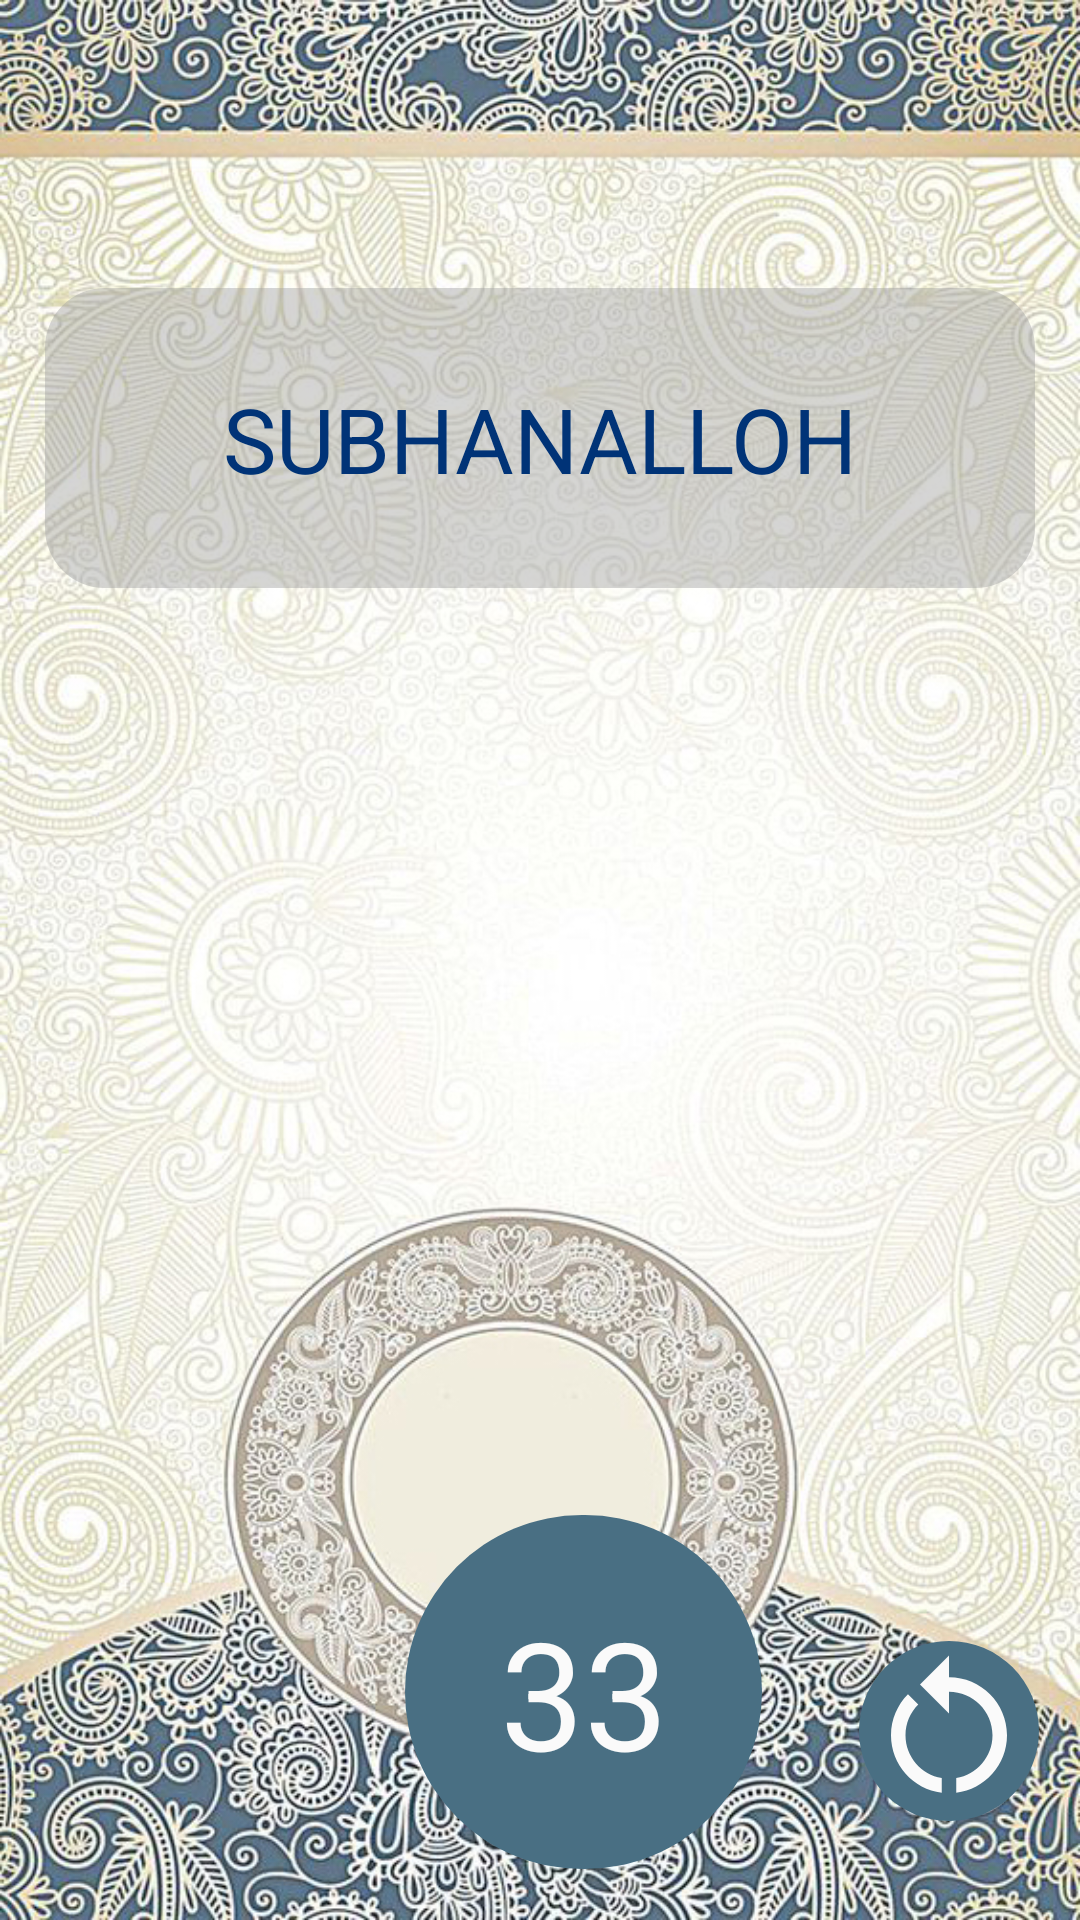

Where to tap for icons on this 1080 x 1920 app screen, as (x,y):
restart: (949,1728)
